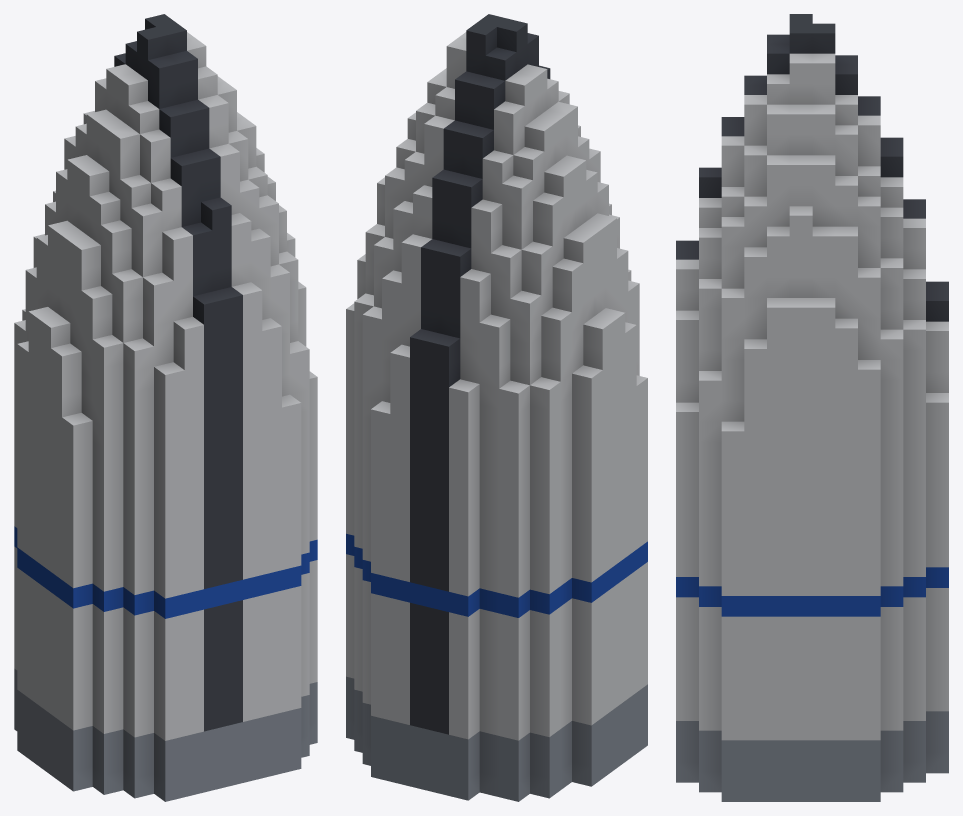
Rendered from fairing_xs.glb.
3 views of the same model, side by side, from view 1: azimuth 30°, elevation 25°; view 2: azimuth 150°, elevation 25°; view 3: azimuth 270°, elevation 25° (orthographic).
Visible parts, largest first — view 1: fairing_xs; view 2: fairing_xs; view 3: fairing_xs.
Boxes of the visible parts, x1,y1,x2,y2 form: fairing_xs: [14, 14, 317, 801]; fairing_xs: [346, 14, 647, 801]; fairing_xs: [676, 14, 948, 801].
Bounding box in the file's own units: 0.6 × 1.75 × 0.6.
